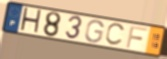3: (64, 15, 83, 41)
8: (43, 11, 63, 38)
C: (104, 23, 127, 47)
F: (125, 25, 149, 50)
G: (84, 19, 105, 44)
H: (19, 6, 43, 36)
